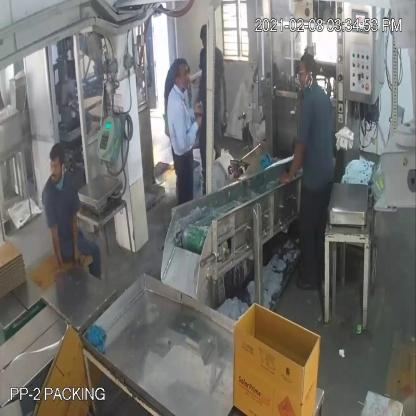no_glove: (64, 187, 87, 278), (42, 193, 64, 285), (168, 105, 210, 152), (280, 129, 310, 188), (217, 60, 232, 138)
